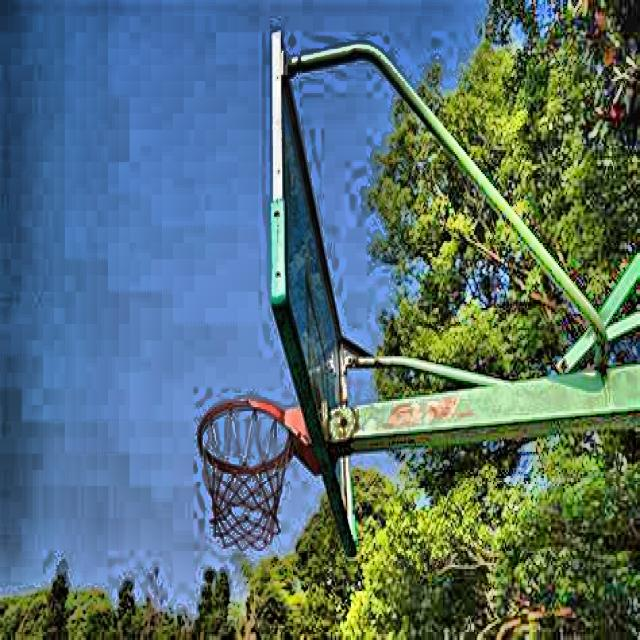rim: (198, 397, 290, 549)
